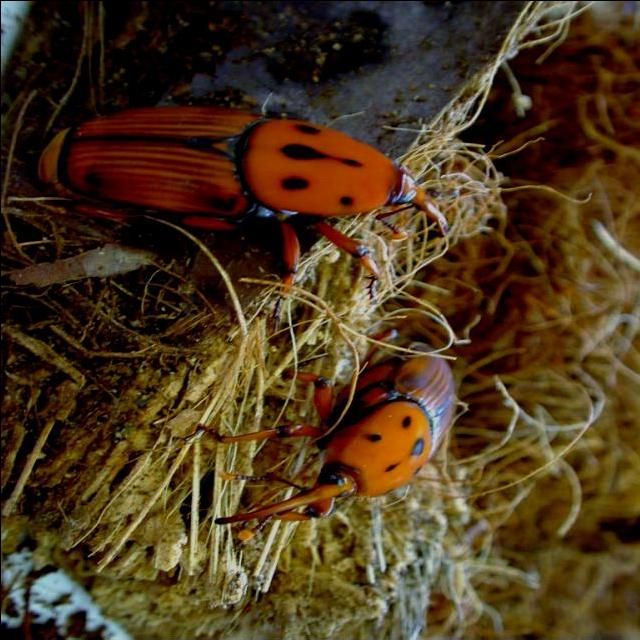Red-palm-weevil: (28, 103, 450, 244), (218, 355, 460, 541)
